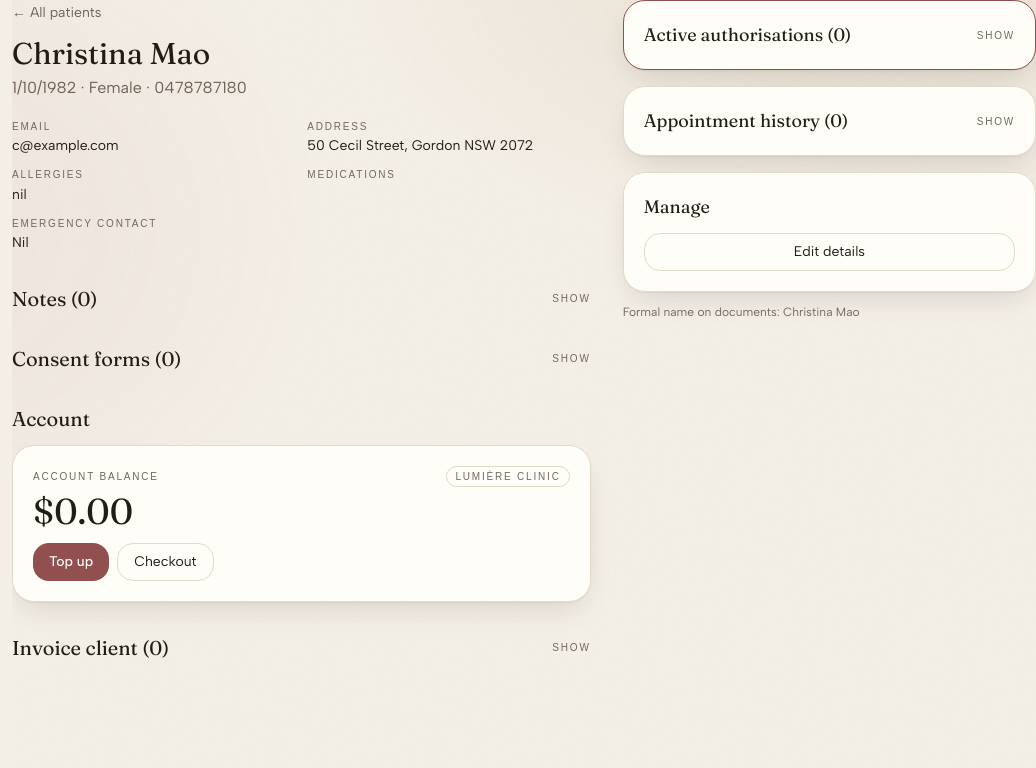
patient file — note composer pills › offers all three kinds as pills, with Treatment note selected on open
Click the button "Notes (0) Show".
click(45, 298)  # box [12,285,591,313]
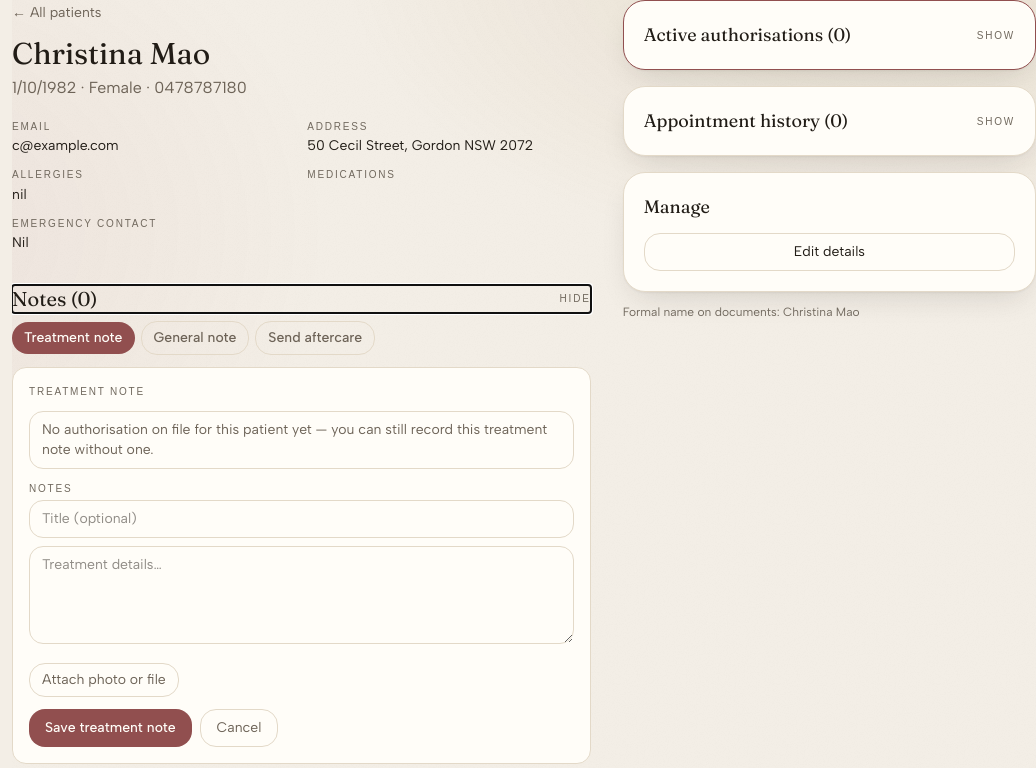
Expected: the text box with placeholder "Treatment details…" is shown, [29,546,574,644]
